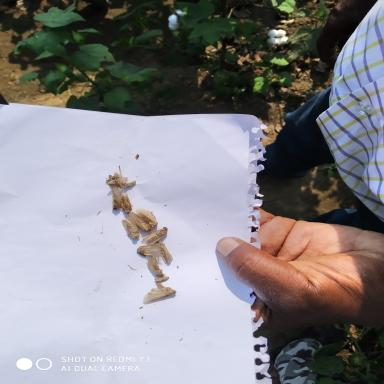abw: (140, 280, 178, 304), (124, 211, 152, 233), (140, 225, 170, 244), (145, 256, 169, 278), (135, 208, 160, 229), (119, 218, 141, 240), (154, 240, 174, 264), (135, 243, 165, 259), (108, 186, 122, 211), (120, 191, 133, 214)
